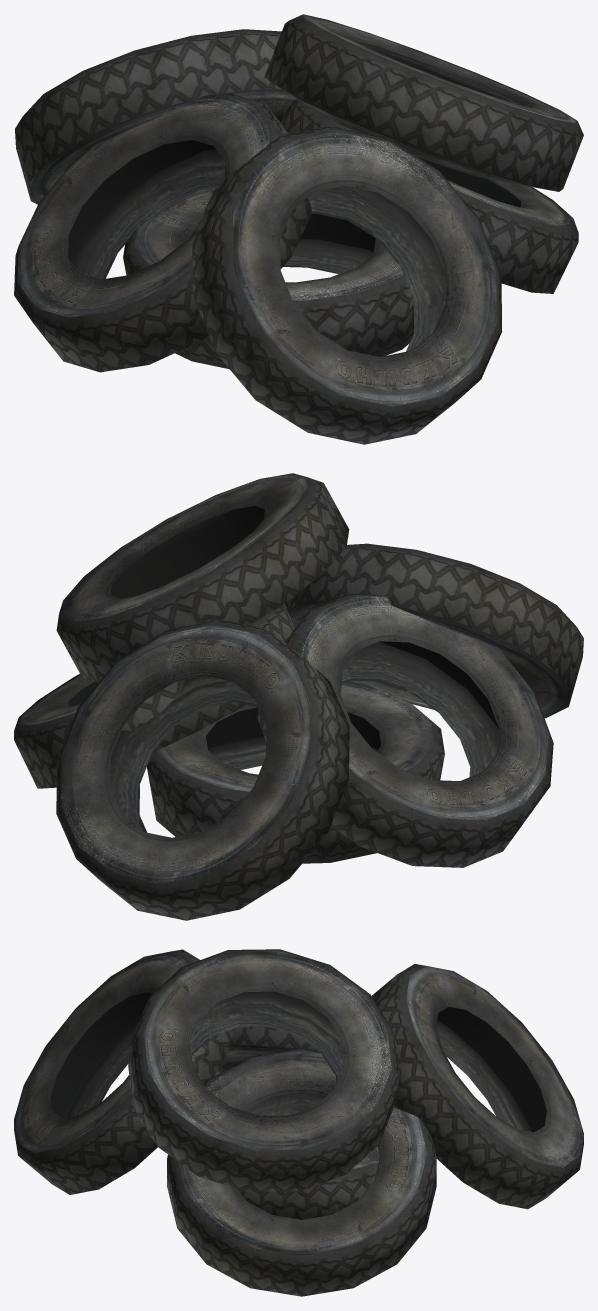
File: lotOf_tires.FBX
The picture shows the model from 3 angles, top to bottom: view 1: azimuth 30°, elevation 25°; view 2: azimuth 150°, elevation 25°; view 3: azimuth 270°, elevation 25°; orthographic projection. The views are drawn at different scales.
Visible parts, largest first — view 1: lotOf_tire; view 2: lotOf_tire; view 3: lotOf_tire.
Part boxes in pixels (x1,y1,x2,y2): lotOf_tire: [14, 14, 583, 444]; lotOf_tire: [14, 473, 583, 920]; lotOf_tire: [14, 949, 583, 1296].
Size of the model in its own units: 1.12 by 0.6248 by 1.27.
